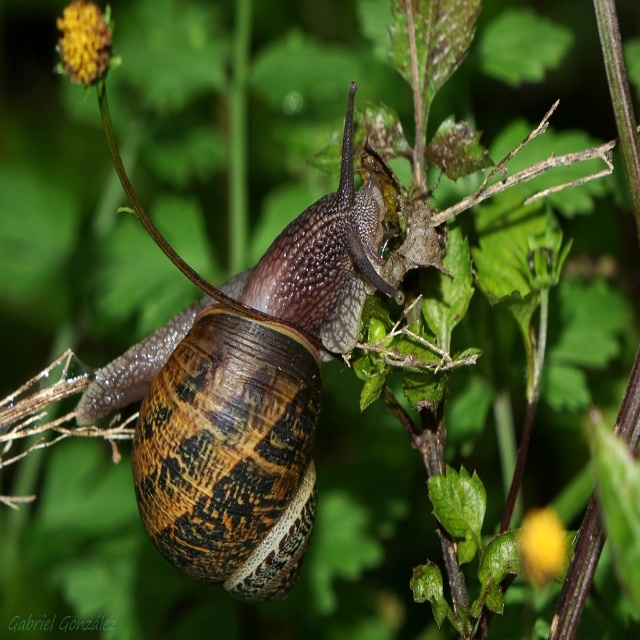Snail: (70, 75, 406, 603)
